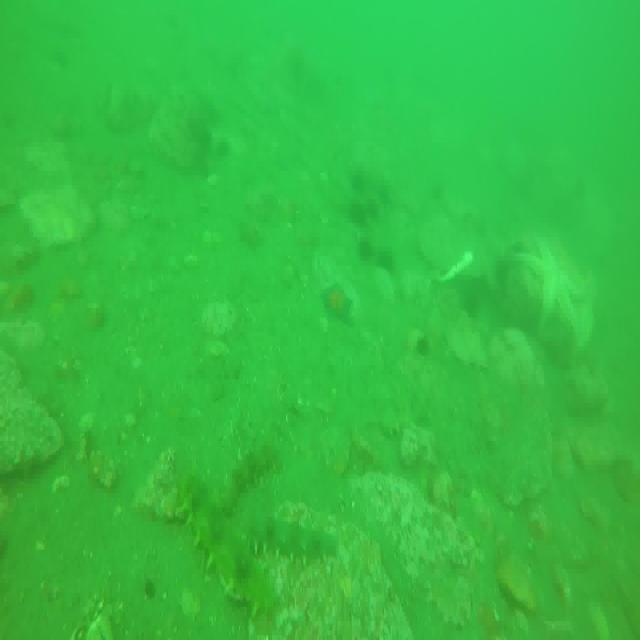echinus: (378, 236, 398, 272), (462, 284, 480, 315), (351, 196, 368, 224), (365, 195, 380, 221), (358, 234, 374, 258), (381, 189, 394, 206)
holothurian: (177, 467, 276, 618), (215, 447, 280, 526), (242, 511, 335, 562)
starfish: (515, 235, 586, 337), (320, 278, 353, 320)
